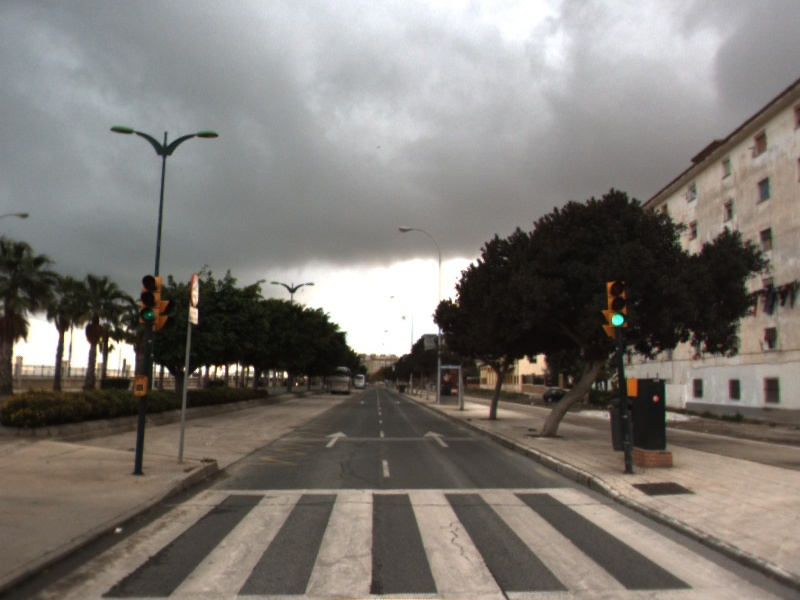STRAIGHT: (421, 428, 451, 449), (323, 429, 351, 450)
